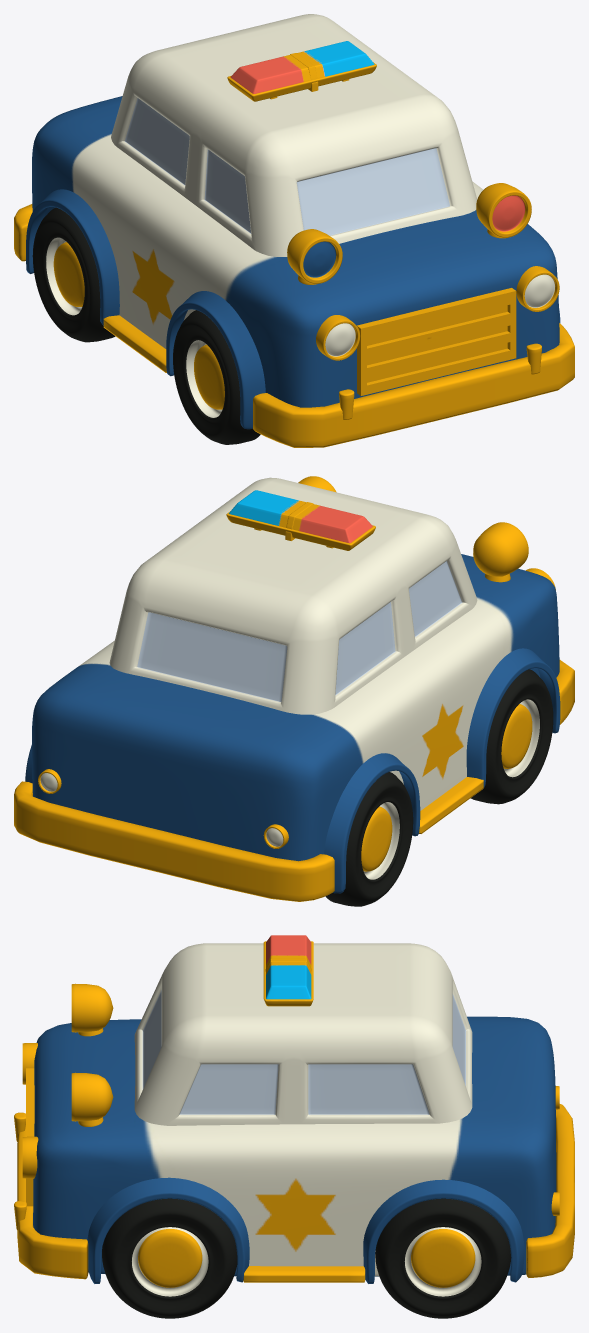
The model's file is policecar.fbx.
3 renders of one model, top to bottom at view 1: azimuth 30°, elevation 25°; view 2: azimuth 150°, elevation 25°; view 3: azimuth 270°, elevation 25°, orthographic. The views are drawn at different scales.
Visible parts, largest first — view 1: polySurface208, polySurface209, polySurface217; view 2: polySurface208, polySurface217, polySurface209; view 3: polySurface208, polySurface224, polySurface223.
Boxes of the visible parts, x1,y1,x2,y2 form: polySurface208: (14, 14, 574, 447); polySurface209: (173, 310, 260, 444); polySurface217: (32, 207, 115, 342); polySurface208: (14, 476, 574, 901); polySurface217: (325, 772, 413, 906); polySurface209: (470, 669, 553, 804); polySurface208: (14, 935, 574, 1283); polySurface224: (375, 1198, 511, 1318); polySurface223: (102, 1198, 237, 1318).
Size of the model in its own units: 2.09 by 1.84 by 3.25.
1 material, 1 textured.
